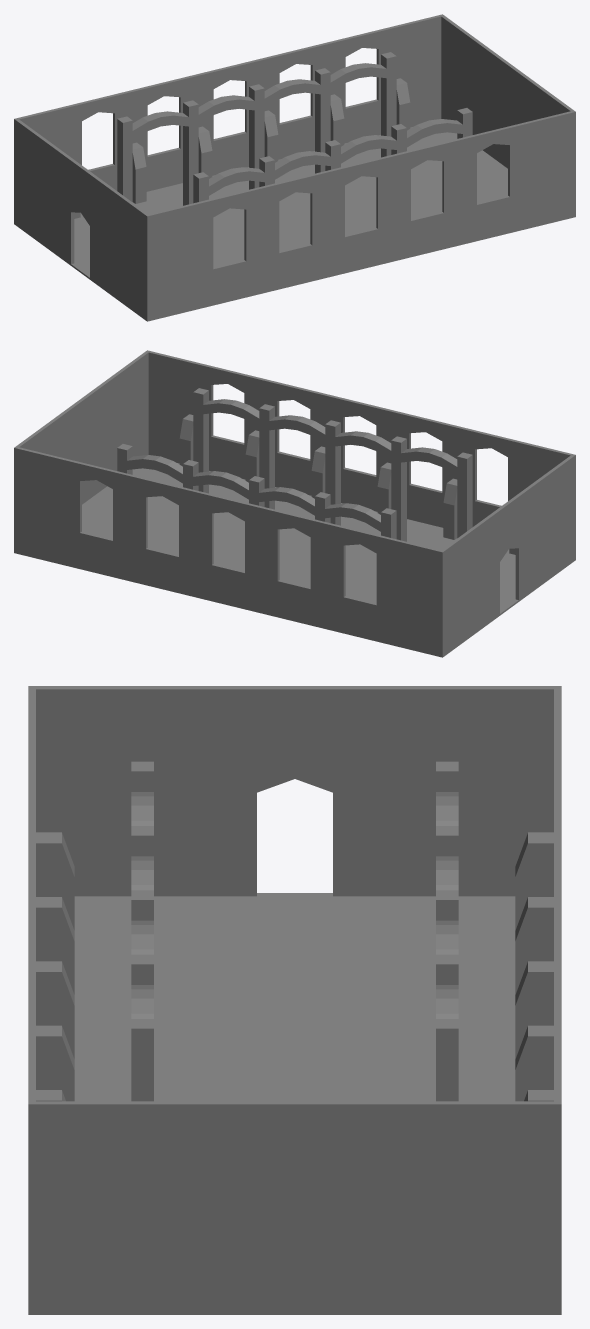
File: Interior.fbx
3 renders of one model, top to bottom at view 1: azimuth 30°, elevation 25°; view 2: azimuth 150°, elevation 25°; view 3: azimuth 270°, elevation 25°, orthographic. The views are drawn at different scales.
Visible parts, largest first — view 1: Cube.001; view 2: Cube.001; view 3: Cube.001.
Part boxes in pixels (x1=…): Cube.001: x1=14, y1=14, x2=575, y2=321; Cube.001: x1=14, y1=350, x2=575, y2=657; Cube.001: x1=28, y1=686, x2=561, y2=1314.
Size of the model in its own units: 2600 by 610 by 1400.
